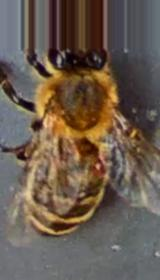varroa_mite: (89, 146, 116, 178)
